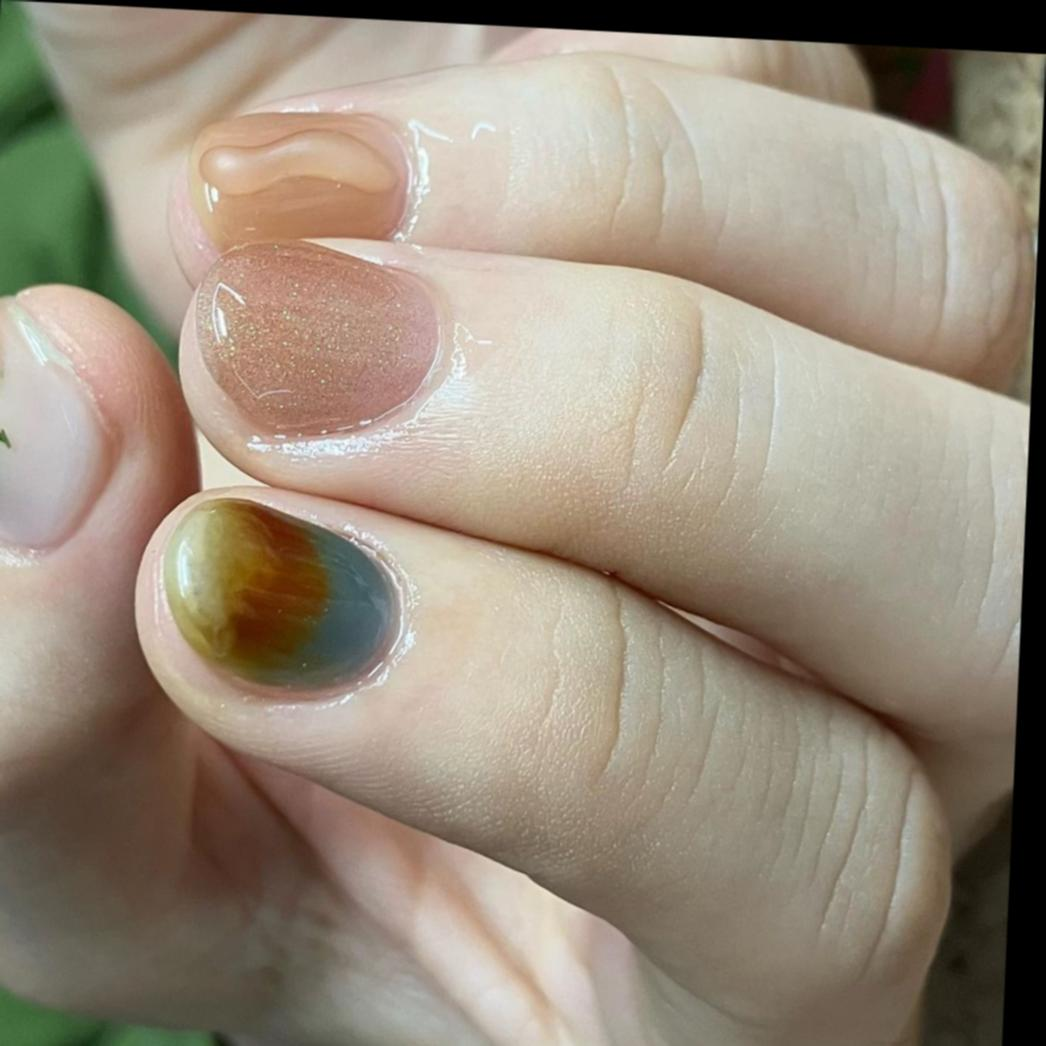nail: (161, 28, 1045, 394), (185, 236, 448, 450), (0, 295, 118, 561)
